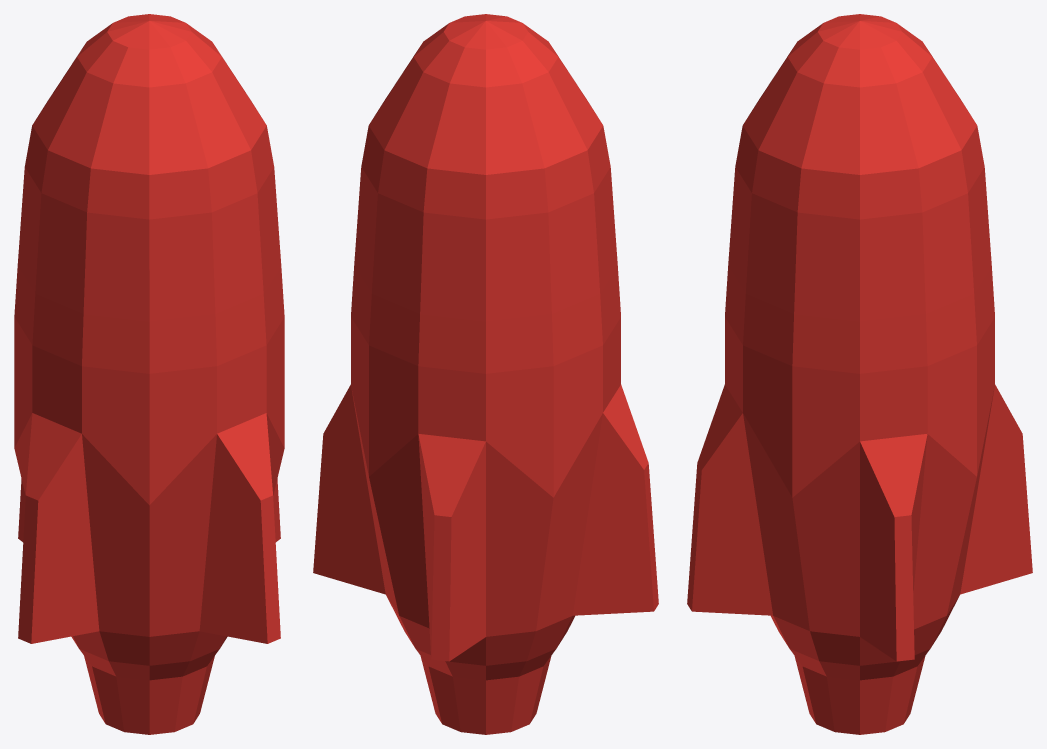
The model's file is Missile 3.fbx.
3 views of the same model, side by side, from view 1: azimuth 30°, elevation 25°; view 2: azimuth 150°, elevation 25°; view 3: azimuth 270°, elevation 25° (orthographic).
Parts seen in each view (by area): view 1: Cube.008; view 2: Cube.008; view 3: Cube.008.
Boxes of the visible parts, left/top/right/bottom form: Cube.008: left=14, top=14, right=284, bottom=734; Cube.008: left=313, top=14, right=658, bottom=734; Cube.008: left=687, top=14, right=1032, bottom=734.
Size of the model in its own units: 256 by 566 by 256.
